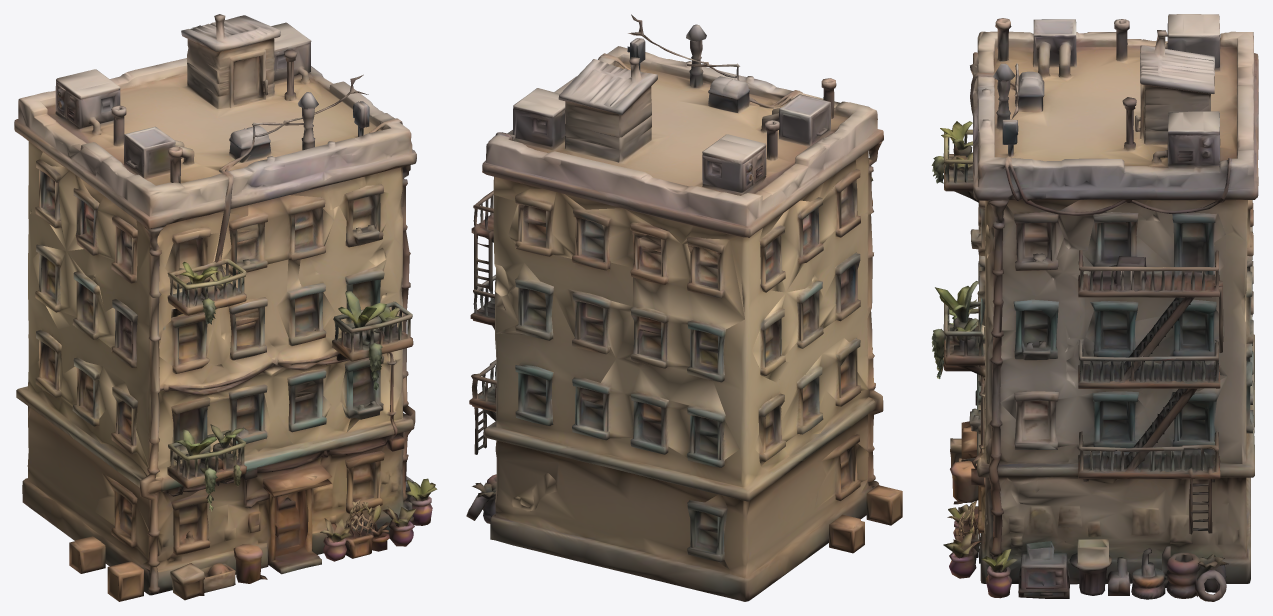
The model's file is apartment_cream.glb.
3 views of the same model, side by side, from view 1: azimuth 30°, elevation 25°; view 2: azimuth 150°, elevation 25°; view 3: azimuth 270°, elevation 25° (orthographic). The views are drawn at different scales.
Parts seen in each view (by area): view 1: tripo_part_0, tripo_part_1, tripo_part_12, tripo_part_15, tripo_part_11, tripo_part_13, tripo_part_21, tripo_part_9, tripo_part_8, tripo_part_6, tripo_part_52, tripo_part_7 (+18 smaller); view 2: tripo_part_0, tripo_part_1, tripo_part_2, tripo_part_15, tripo_part_11, tripo_part_13, tripo_part_4, tripo_part_33, tripo_part_43, tripo_part_29, tripo_part_40, tripo_part_53 (+2 smaller); view 3: tripo_part_0, tripo_part_1, tripo_part_4, tripo_part_18, tripo_part_14, tripo_part_3, tripo_part_38, tripo_part_10, tripo_part_24, tripo_part_23, tripo_part_44, tripo_part_45 (+16 smaller).
Part boxes in pixels (x1,y1,x2,y2): tripo_part_0: [16, 141, 415, 595]; tripo_part_1: [14, 14, 416, 229]; tripo_part_12: [222, 195, 334, 345]; tripo_part_15: [35, 159, 137, 283]; tripo_part_11: [32, 244, 137, 367]; tripo_part_13: [35, 330, 148, 467]; tripo_part_21: [171, 384, 270, 460]; tripo_part_9: [167, 253, 246, 318]; tripo_part_8: [332, 301, 413, 361]; tripo_part_6: [320, 499, 390, 561]; tripo_part_52: [159, 312, 213, 373]; tripo_part_7: [167, 430, 246, 488]; tripo_part_0: [484, 143, 883, 601]; tripo_part_1: [482, 24, 883, 243]; tripo_part_2: [508, 188, 744, 467]; tripo_part_15: [759, 169, 860, 292]; tripo_part_11: [752, 252, 860, 382]; tripo_part_13: [754, 338, 867, 466]; tripo_part_4: [469, 190, 496, 454]; tripo_part_33: [496, 263, 553, 340]; tripo_part_43: [814, 434, 868, 509]; tripo_part_29: [687, 494, 729, 569]; tripo_part_40: [515, 365, 553, 425]; tripo_part_53: [866, 485, 902, 525]; tripo_part_0: [950, 64, 1254, 584]; tripo_part_1: [970, 14, 1258, 214]; tripo_part_4: [1076, 250, 1226, 534]; tripo_part_18: [1000, 391, 1155, 449]; tripo_part_14: [1085, 299, 1224, 364]; tripo_part_3: [1131, 546, 1228, 601]; tripo_part_38: [1083, 212, 1170, 271]; tripo_part_10: [1018, 541, 1070, 598]; tripo_part_24: [1013, 212, 1063, 270]; tripo_part_23: [1013, 299, 1058, 360]; tripo_part_44: [1172, 212, 1225, 280]; tripo_part_45: [1169, 376, 1227, 449].
Size of the model in its own units: 0.7052 by 0.9781 by 0.5805.
Materials: 1 (1 with a texture image).
